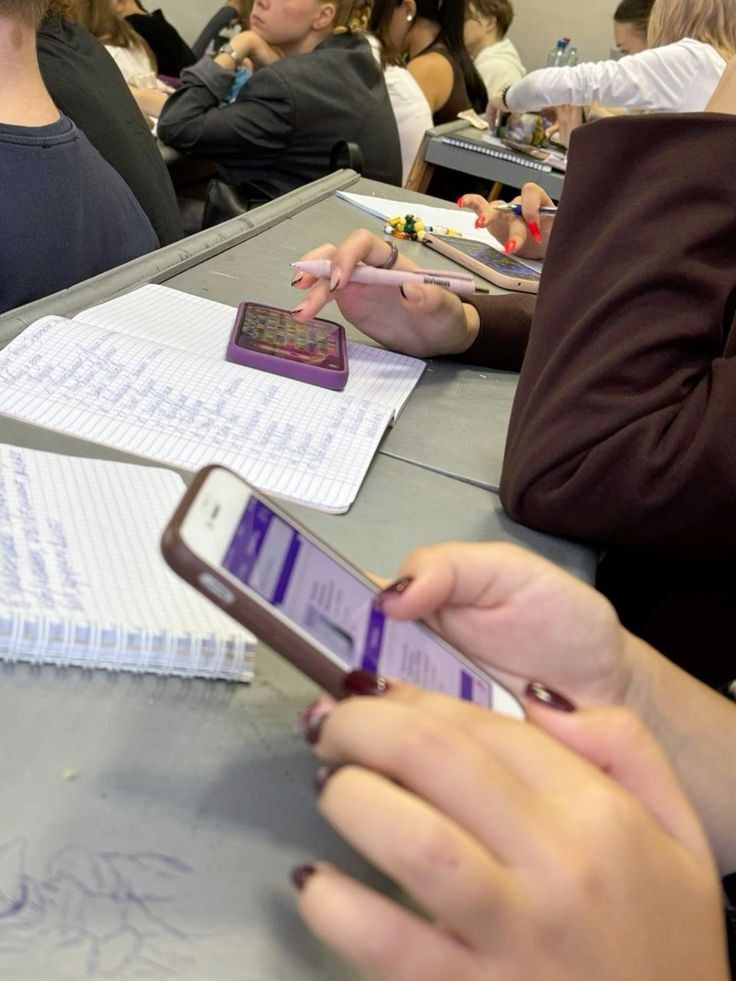cell phone: (162, 463, 527, 744), (226, 300, 349, 390), (423, 231, 543, 293)
